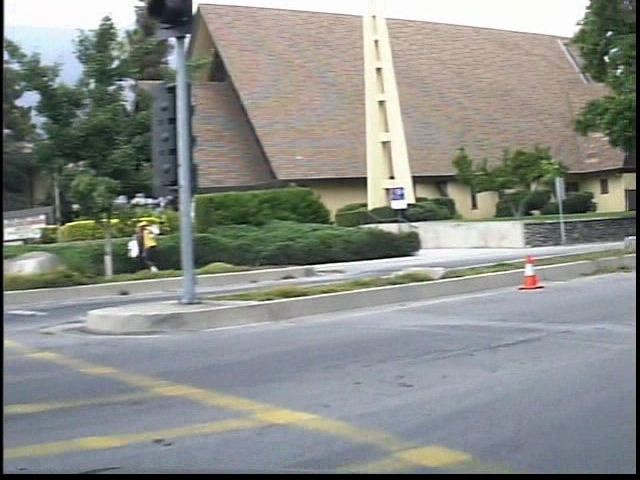person: (148, 217, 183, 277)
